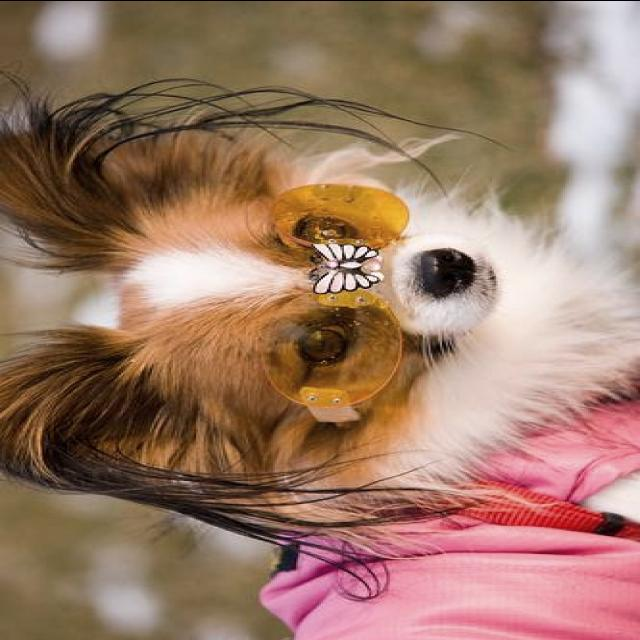papillon: (0, 73, 638, 639)
